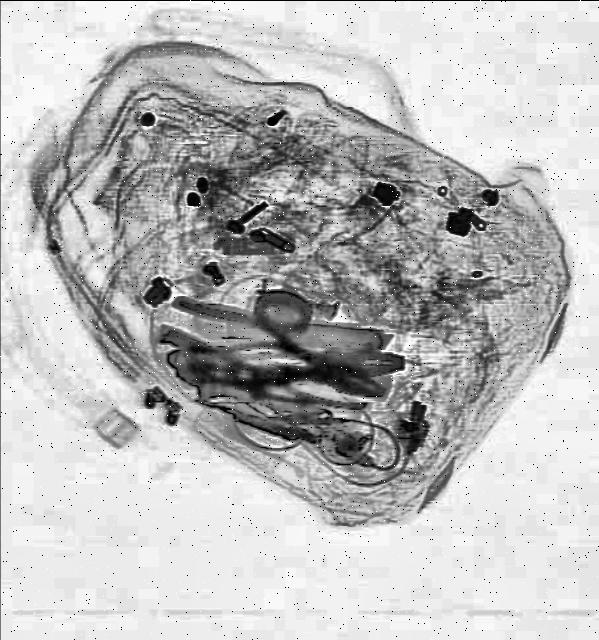Pliers: (157, 278, 398, 422)
